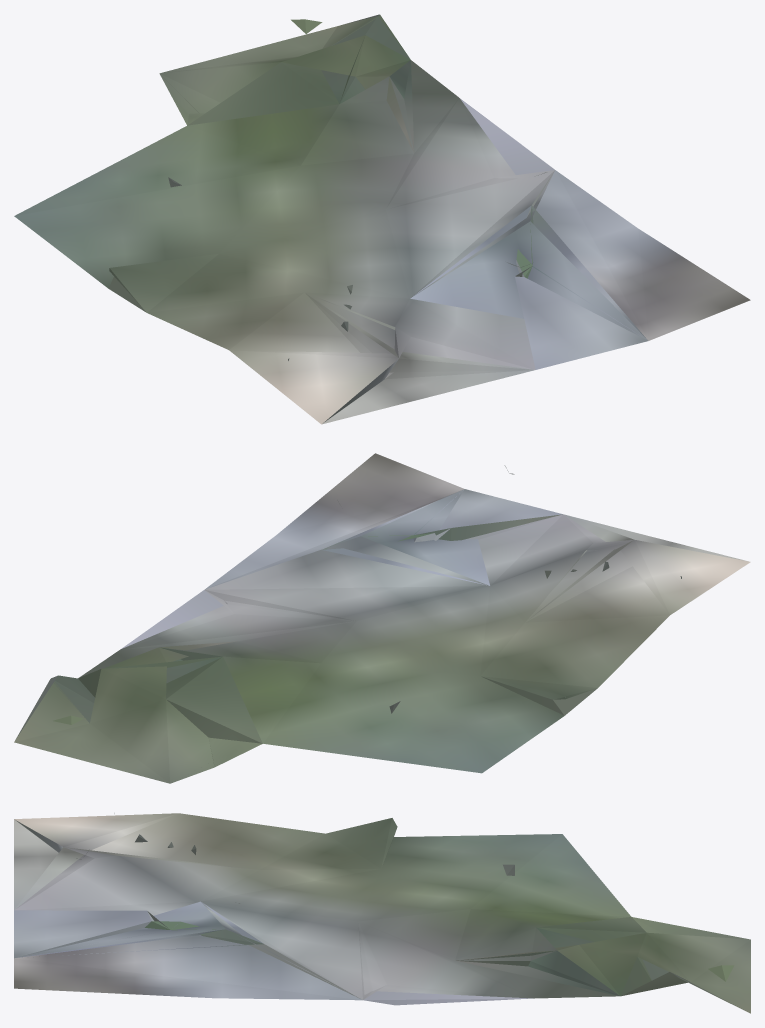
Rendered from Tile__000__005.glb.
The picture shows the model from 3 angles, top to bottom: view 1: azimuth 30°, elevation 25°; view 2: azimuth 150°, elevation 25°; view 3: azimuth 270°, elevation 25°; orthographic projection. The views are drawn at different scales.
Parts seen in each view (by area): view 1: root; view 2: root; view 3: root.
Part boxes in pixels (<box>): root: <box>14,14,750,424</box>; root: <box>14,453,750,783</box>; root: <box>14,813,750,1013</box>.
Bounding box in the file's own units: 60.71 × 13.18 × 101.
1 material, 1 textured.
